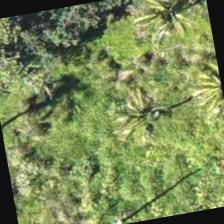Kelapa_Sawit: (79, 60, 183, 164), (48, 0, 148, 70), (162, 27, 223, 126)
